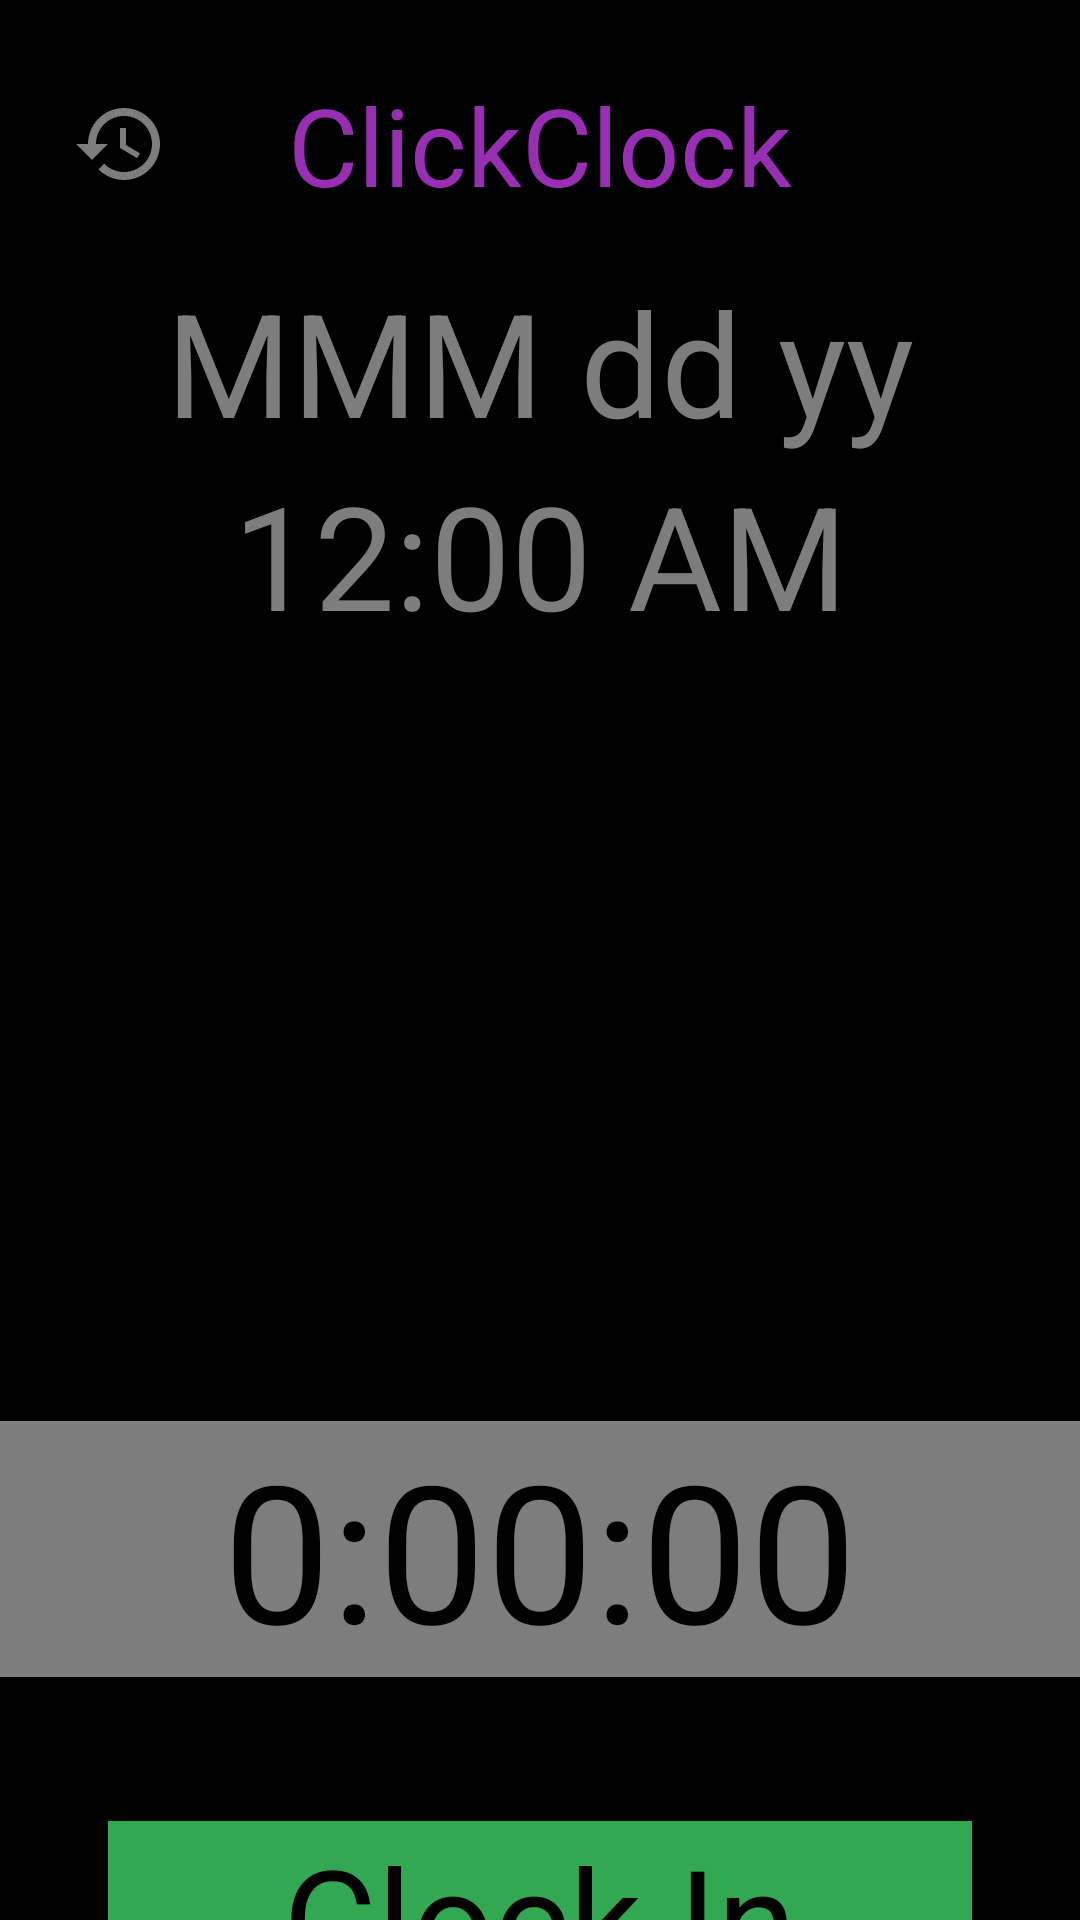

Named icons in this screenshot (1080*1920) and their bounding boxes, {"left": x1, "top": y1, "right": x2, "bottom": y2}:
Open Log Window: {"left": 76, "top": 108, "right": 160, "bottom": 180}
